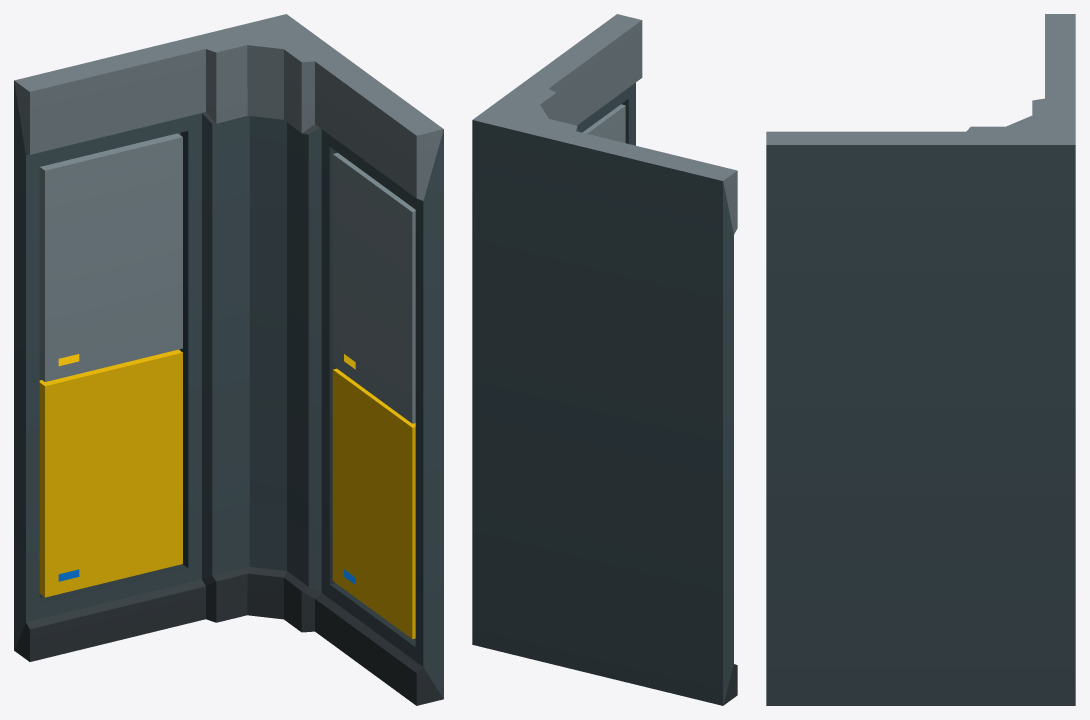
File: Wall_type_C_013.glb
The picture shows the model from 3 angles, left to right: view 1: azimuth 30°, elevation 25°; view 2: azimuth 150°, elevation 25°; view 3: azimuth 270°, elevation 25°; orthographic projection. The views are drawn at different scales.
Visible parts, largest first — view 1: Wall_type_C_013; view 2: Wall_type_C_013; view 3: Wall_type_C_013.
Boxes of the visible parts, x1,y1,x2,y2 form: Wall_type_C_013: (14, 14, 443, 705); Wall_type_C_013: (472, 14, 737, 705); Wall_type_C_013: (766, 14, 1075, 705).
Bounding box in the file's own units: 2 × 4 × 2.
2 materials, 2 textured.
